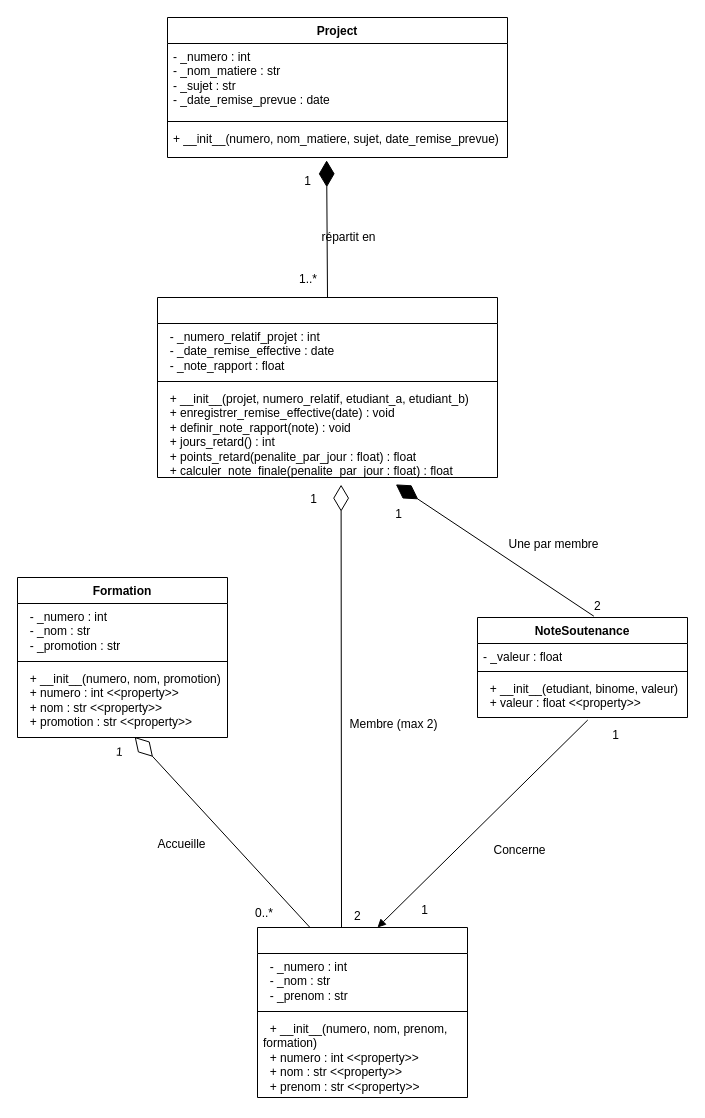
Some shapes in this 705 by 1118 pixel diagram are drawn without their labels. The shapes that lost their labels are listed below. From the top down, each one's box as (x1, y1, x2, y2) in pixels, then its label:
(156, 296, 498, 478): Binôme
(256, 926, 468, 1098): Etudiant
